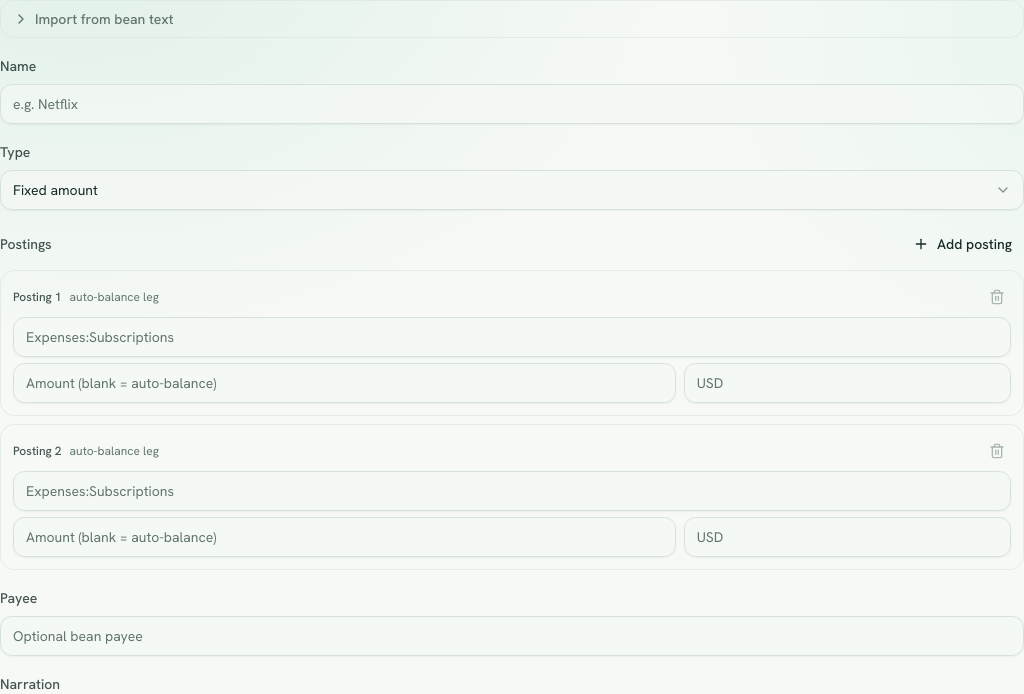
Test: fetches an exchange rate into a posting's price on demand
Type "100" into the field named "amount 1". click: [344, 383]
box: [13,363,676,403]
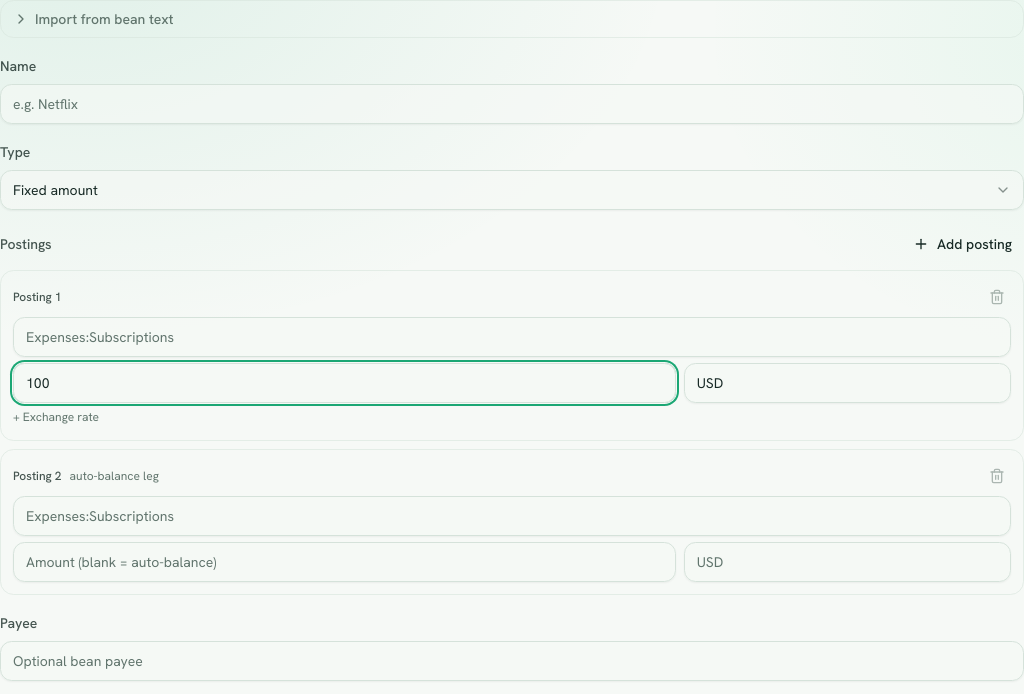
Click the button "+ Exchange rate". click: [56, 417]
box: [13,409,99,425]
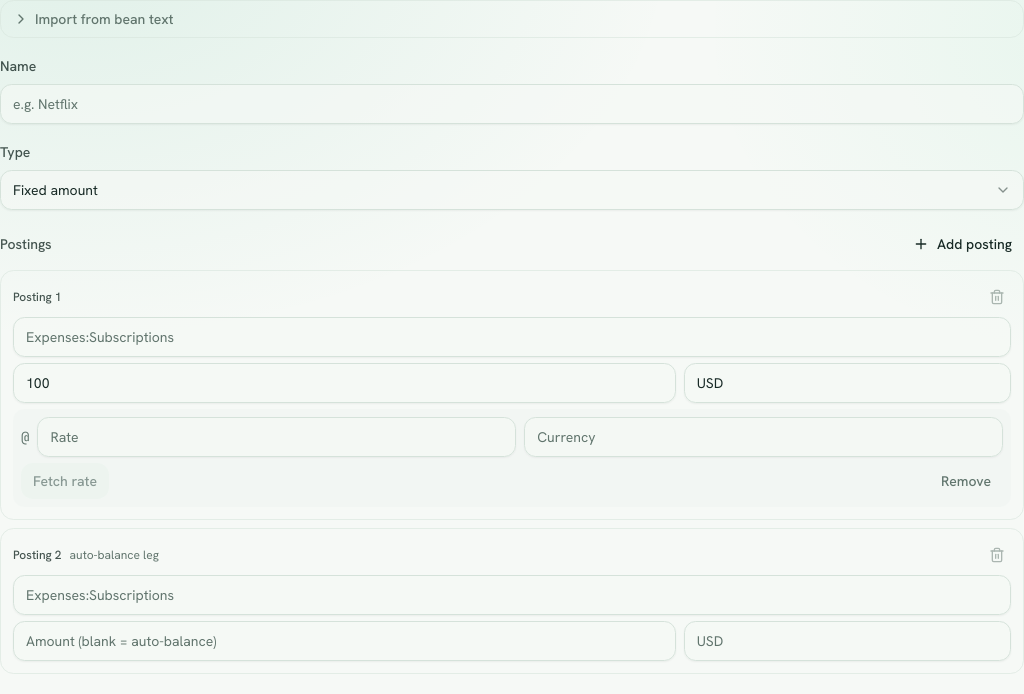
Type "CNY" into the dropdown named "price currency 1". click: [764, 437]
box: [524,417,1003,457]
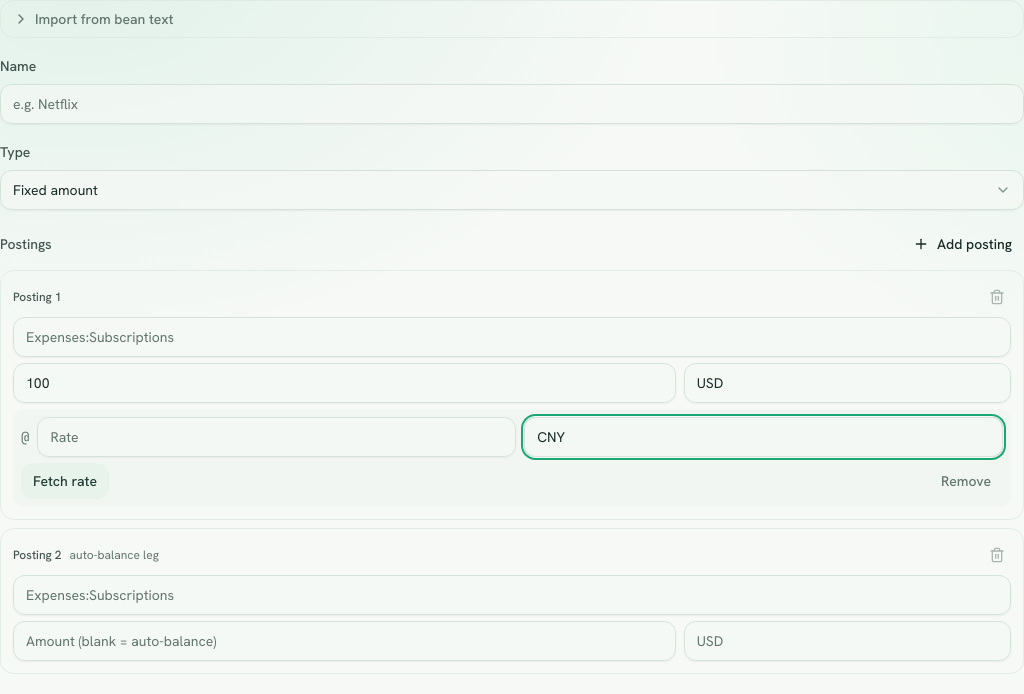
Click the button "Fetch rate". click: [65, 481]
box: [21,463,109,499]
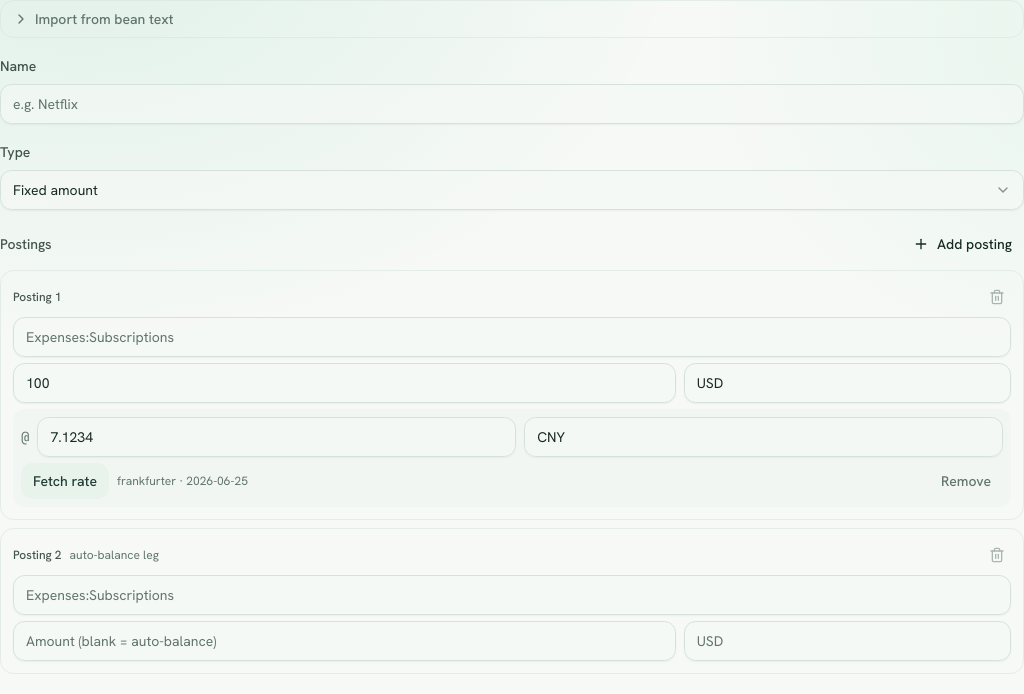
Expected: the field named "price 1" holds "7.1234", [37,417,516,457]
Expected: the text "frankfurter · 2026-06-25" is shown, [117,473,248,489]
